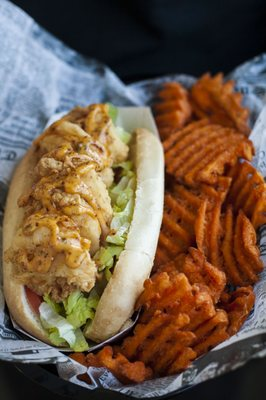soup: (2, 101, 165, 353)
